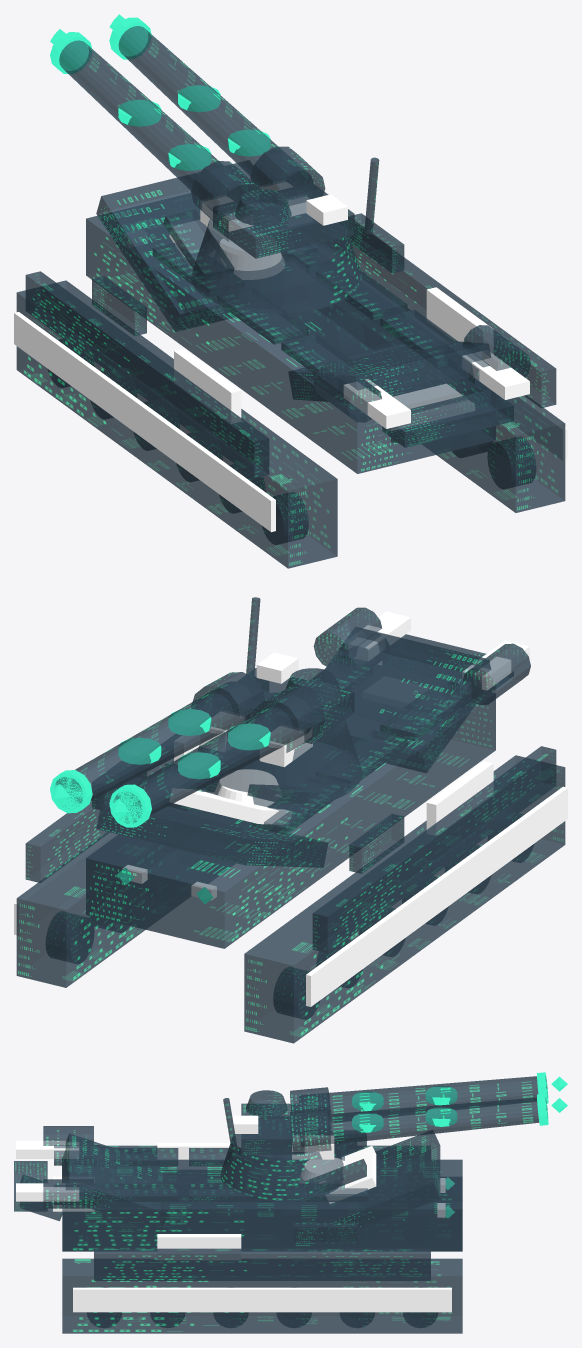
The model's file is char.glb.
3 views of the same model, one above another, from view 1: azimuth 30°, elevation 25°; view 2: azimuth 150°, elevation 25°; view 3: azimuth 270°, elevation 25° (orthographic). The views are drawn at different scales.
Visible parts, largest first — view 1: guerrier; view 2: guerrier; view 3: guerrier.
Boxes of the visible parts, left/top/right/bottom form: guerrier: left=14, top=14, right=567, bottom=568; guerrier: left=14, top=597, right=567, bottom=1043; guerrier: left=14, top=1072, right=567, bottom=1333.
Size of the model in its own units: 1.22 by 1.08 by 2.63.
